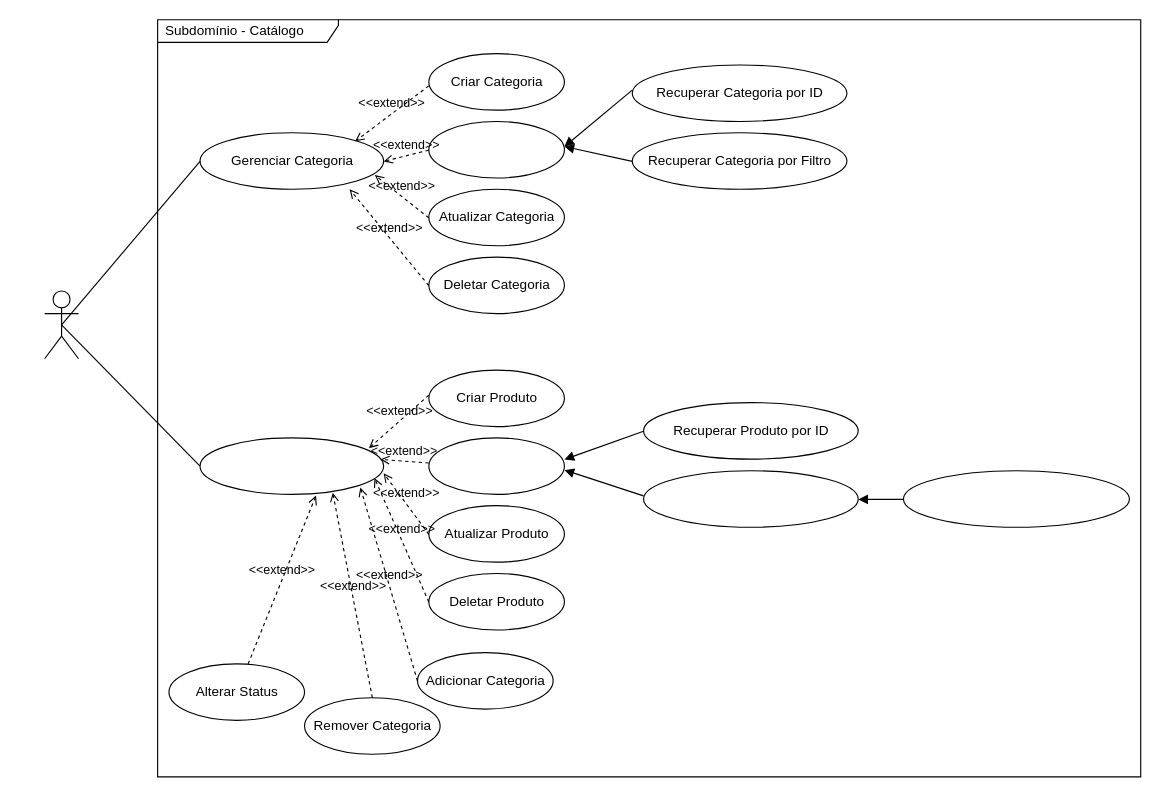
This 1161x797 diagram has some shape labels left out. Each missing label, with the box of its shape:
Administrador: (44, 290, 79, 359)
Gerenciar Produto: (199, 437, 384, 494)
Recuperar Categoria: (428, 120, 564, 178)
Recuperar Produto: (428, 437, 564, 494)
Recuperar Produto por Categoria: (902, 470, 1129, 527)
Recuperar Produto por Filtro: (642, 470, 858, 527)
